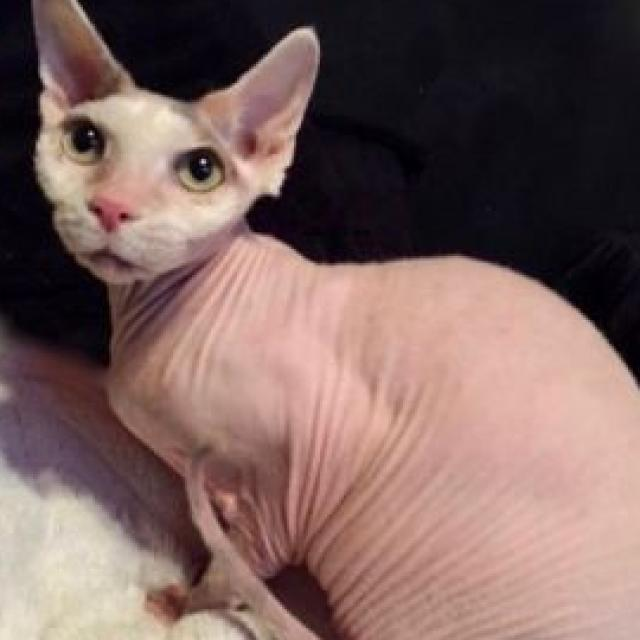Sphynx: (28, 0, 640, 640)
